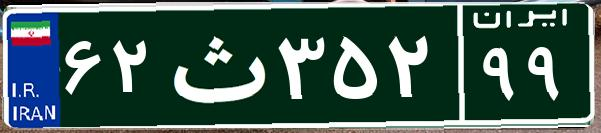2: (385, 28, 445, 110), (110, 28, 158, 105)
3: (273, 28, 330, 110)
5: (330, 28, 385, 110)
6: (57, 26, 110, 107)
9: (475, 38, 525, 113), (525, 38, 570, 115)
ث: (158, 15, 273, 115)
